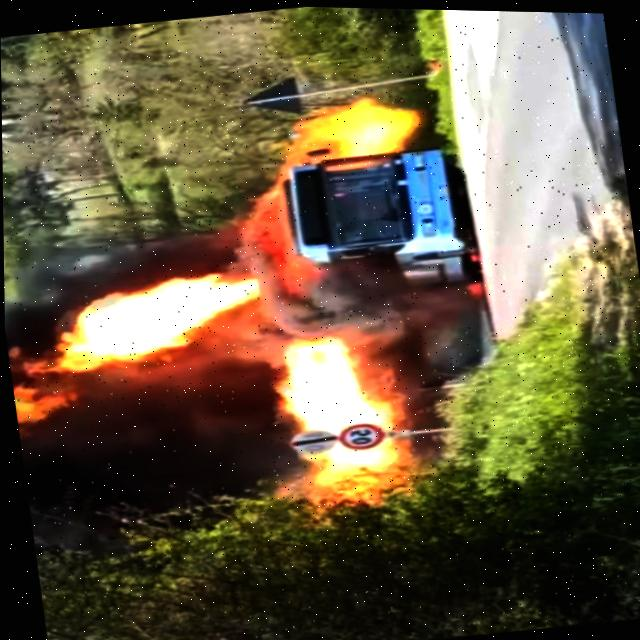Fire: (3, 258, 266, 433), (272, 324, 417, 507), (267, 85, 427, 186)
Smoke: (34, 357, 289, 541), (221, 221, 374, 345)
